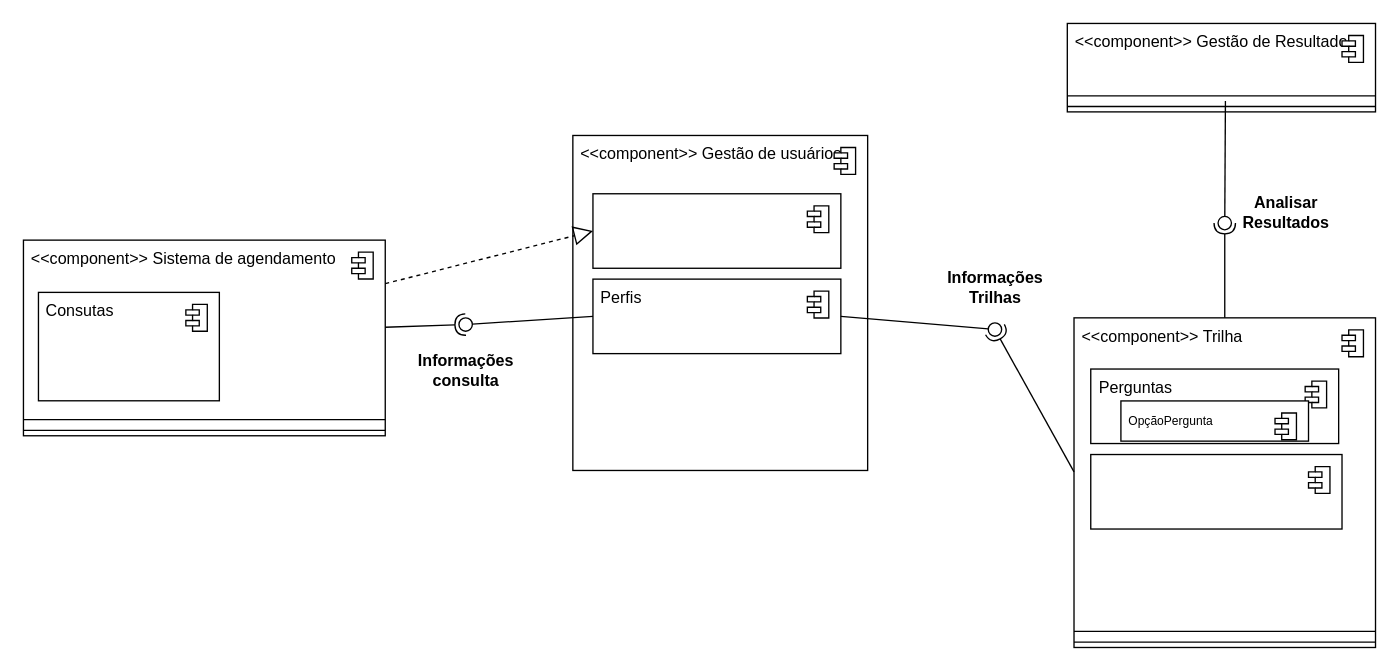
Some shapes in this 1399 by 671 pixel diagram are drawn without their labels. The shapes that lost their labels are listed below. From the top down, each one's centre as x and y in pixels, then its label:
At [716,230]: "Autenticação".
At [1215,491]: "Respostas".
